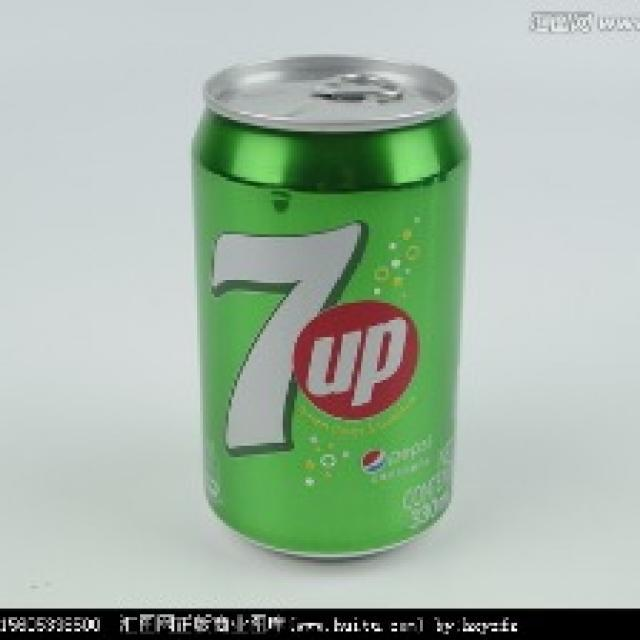metel: (186, 38, 458, 545)
